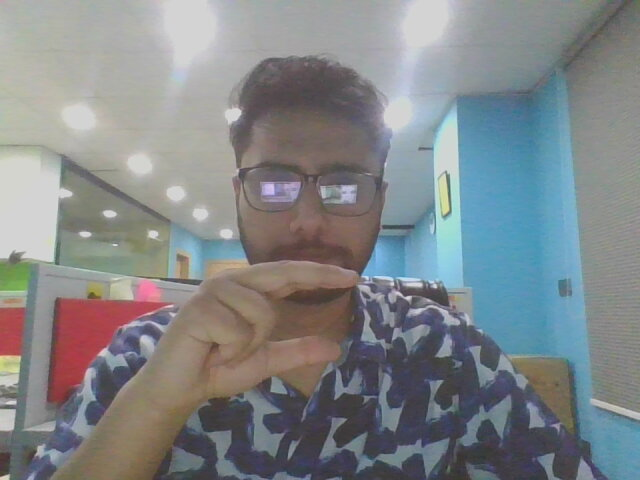no: (130, 248, 370, 463)
